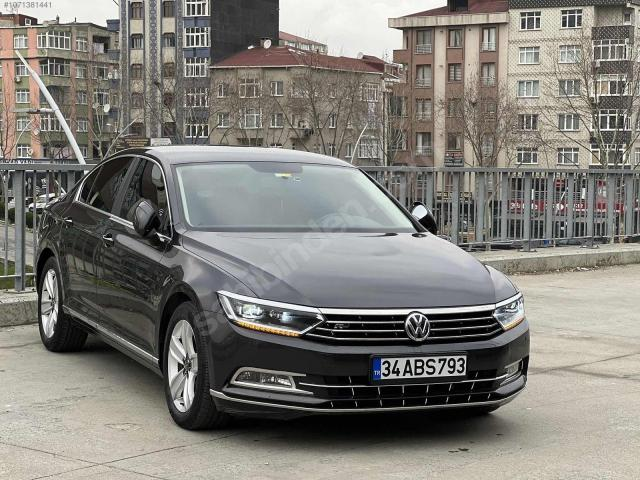plaka: (371, 355, 466, 380)
